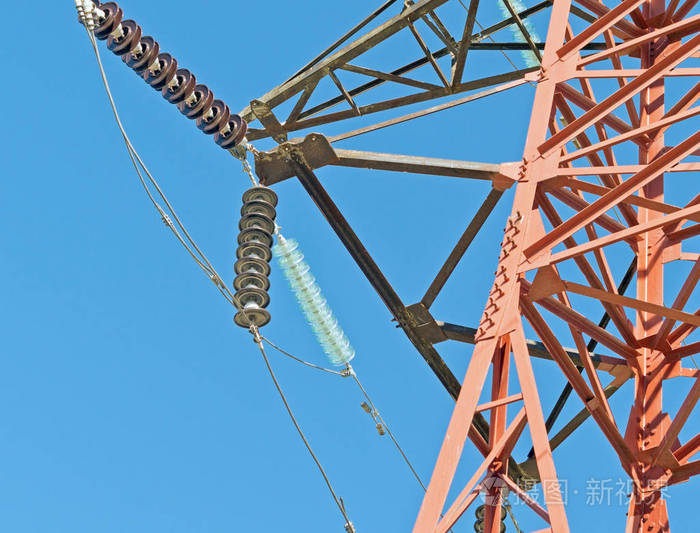insulator: (92, 6, 251, 148), (275, 237, 358, 368), (231, 186, 281, 327)
